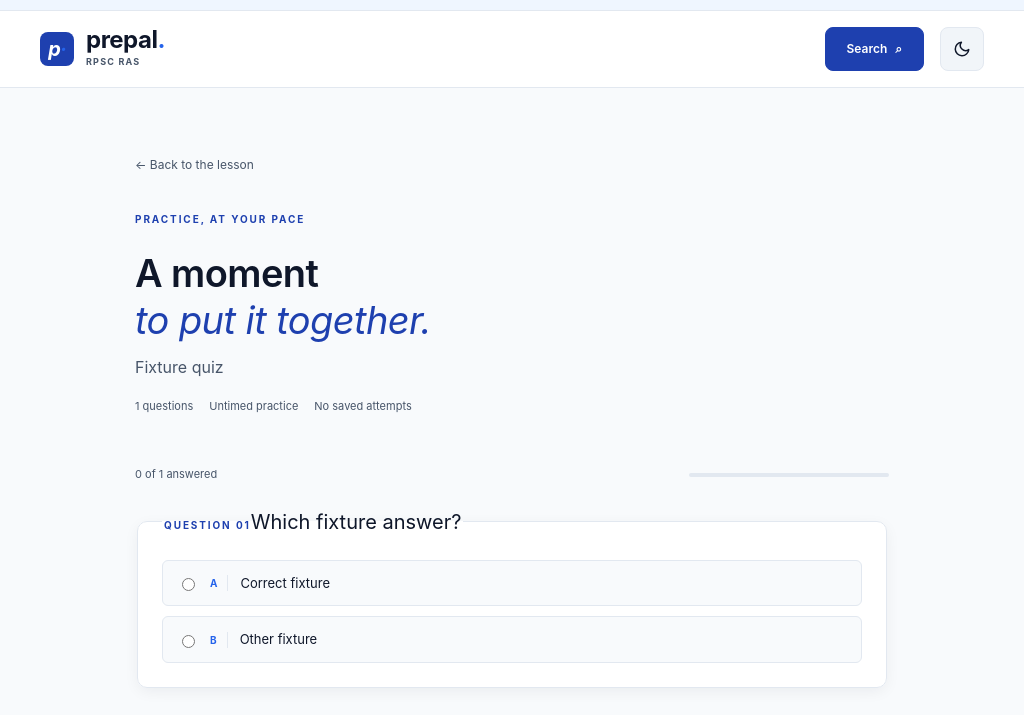
it: published learning flow › keeps entered answers after a failed check
Click the radio button labelled "A Correct fixture". click: (188, 584)
box: [182,578,195,591]
(page scrolled)
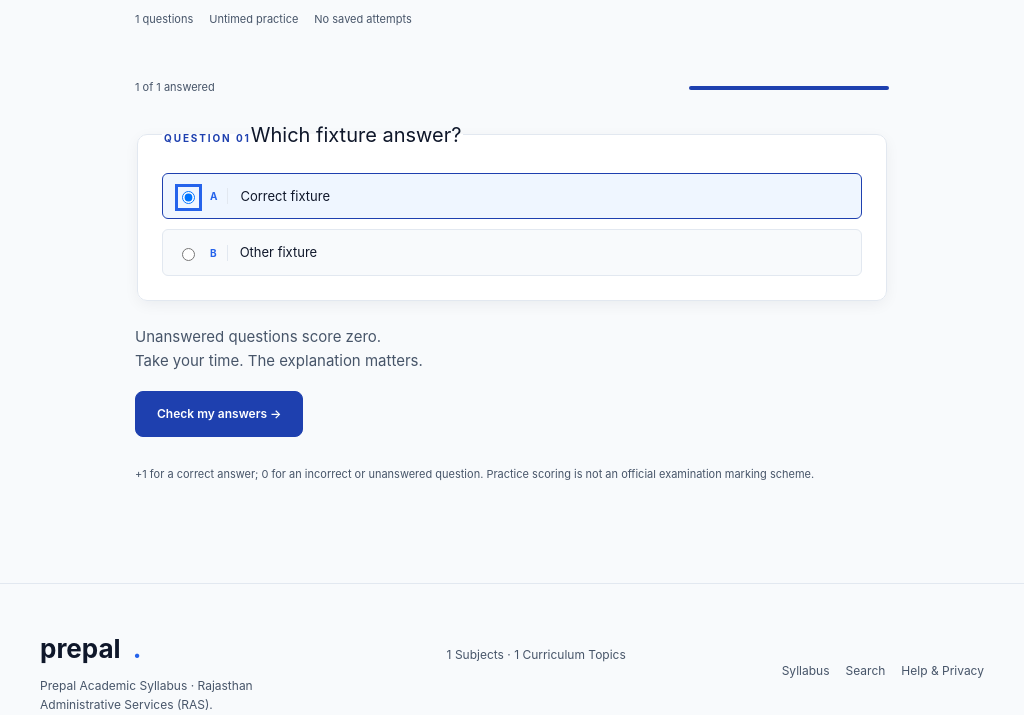
Click the button "Check my answers →". click: (219, 414)
box: [135,391,304,437]
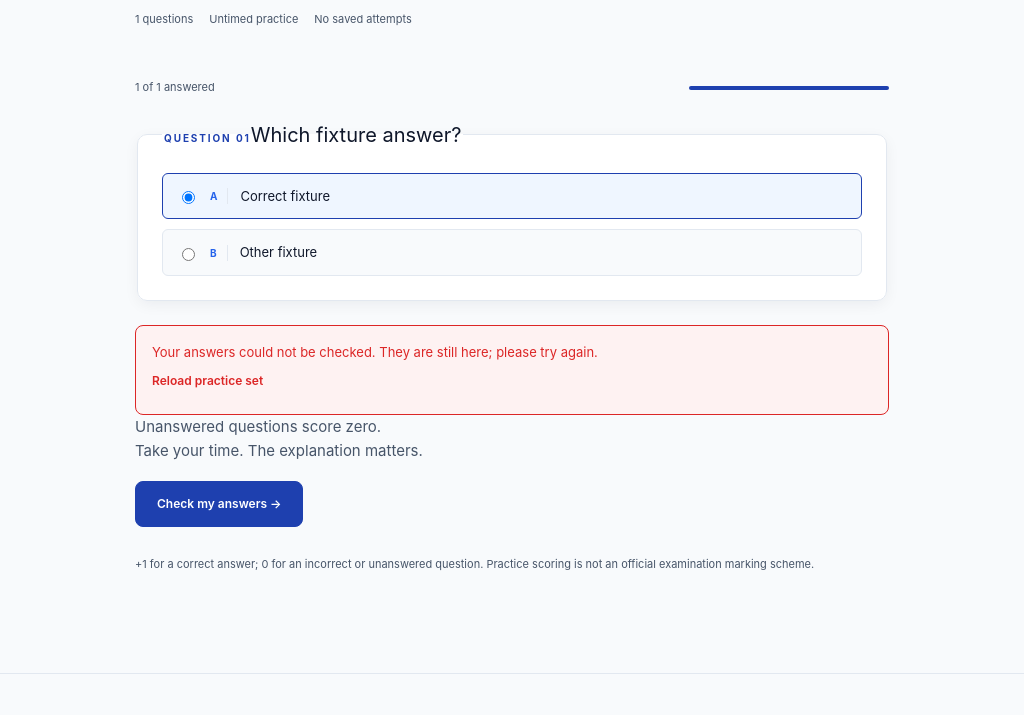
Result: the radio button labelled "A Correct fixture" is checked at [182,191,195,204]
Result: the message shows "They are still here" at [152,344,598,360]
